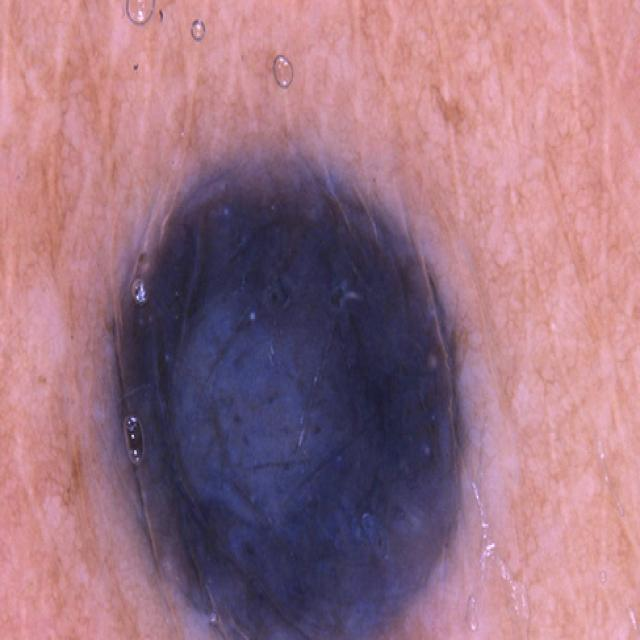Vascular Lesions: (121, 165, 484, 640)
